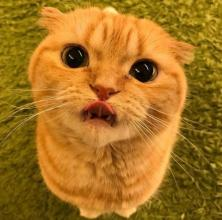cat: (16, 1, 199, 219)
